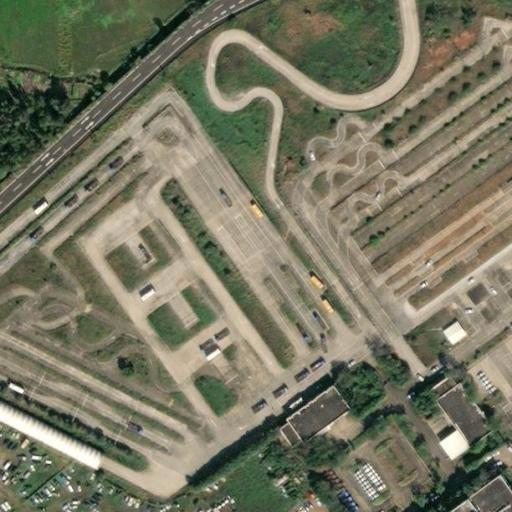building: (270, 380, 342, 445), (426, 467, 512, 512), (430, 428, 461, 459), (465, 279, 493, 307), (433, 322, 456, 345), (502, 321, 512, 335)
